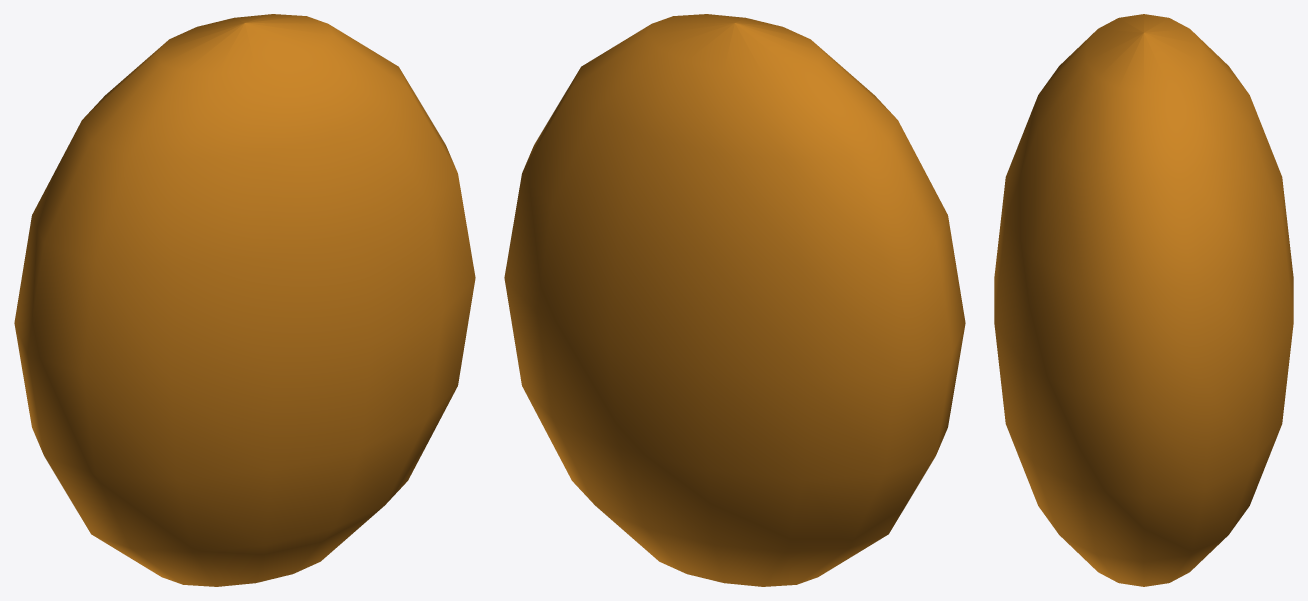
Rendered from spine.obj.
3 views of the same model, side by side, from view 1: azimuth 30°, elevation 25°; view 2: azimuth 150°, elevation 25°; view 3: azimuth 270°, elevation 25° (orthographic). The views are drawn at different scales.
Visible parts, largest first — view 1: spine; view 2: spine; view 3: spine.
Part boxes in pixels (<box>): spine: <box>14,14,475,586</box>; spine: <box>504,14,965,586</box>; spine: <box>994,14,1293,586</box>.
Bounding box in the file's own units: 0.2678 × 0.3264 × 0.1654.
